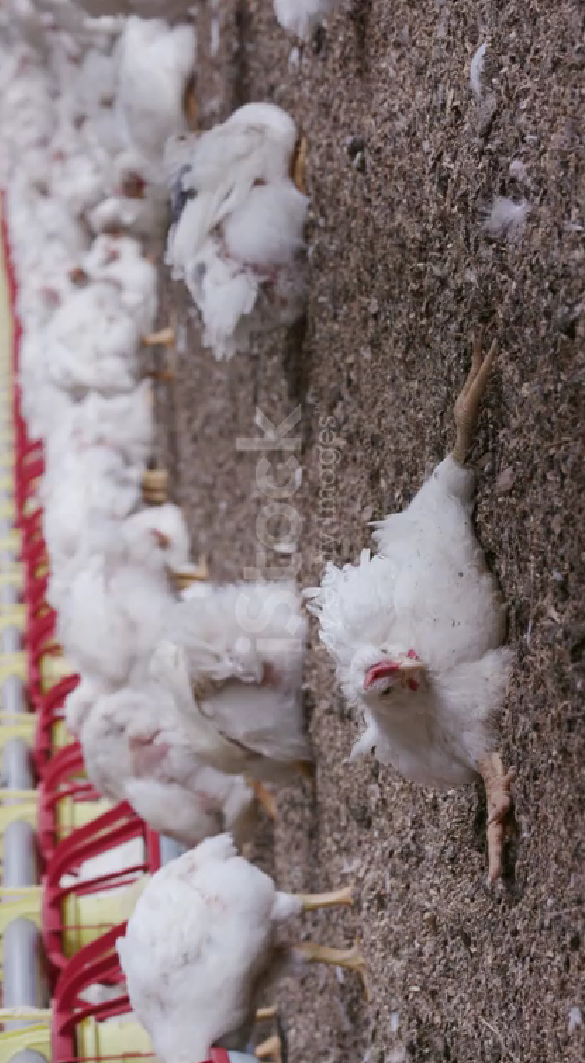Unhealthy: (266, 335, 571, 911)
